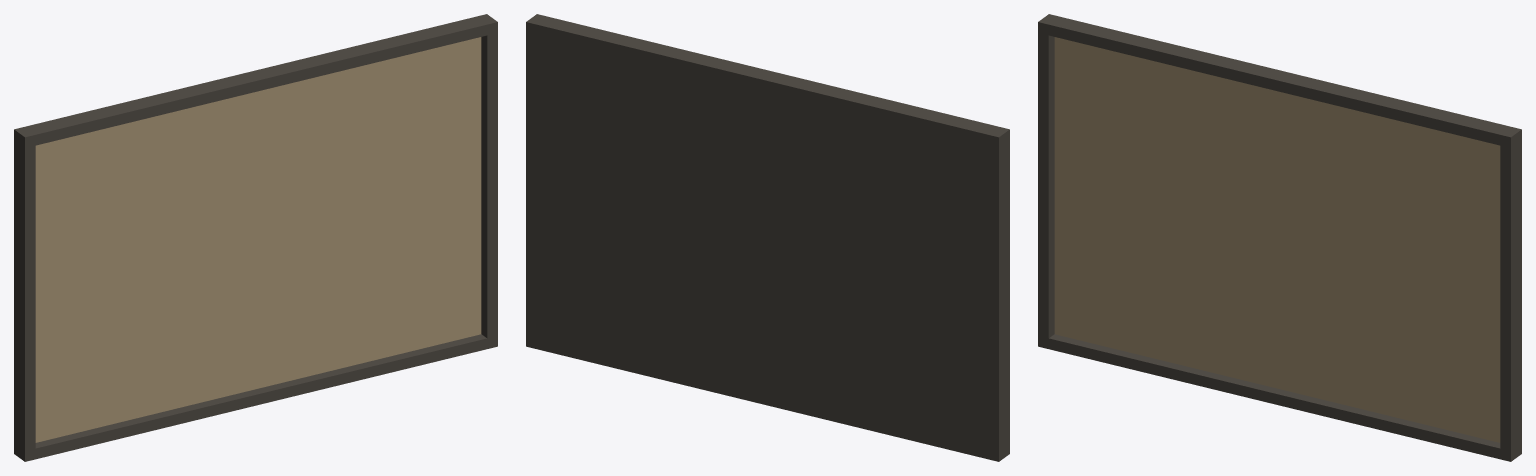
File: board.fbx
3 renders of one model, left to right at view 1: azimuth 30°, elevation 25°; view 2: azimuth 150°, elevation 25°; view 3: azimuth 330°, elevation 25°, orthographic.
Parts seen in each view (by area): view 1: pegboard; view 2: pegboard; view 3: pegboard.
Part boxes in pixels (x1,y1,x2,y2): pegboard: (14, 14, 497, 461); pegboard: (526, 14, 1009, 461); pegboard: (1038, 14, 1521, 461).
Bounding box in the file's own units: 135 × 88.56 × 5.43.
